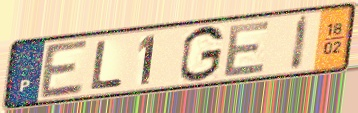1: (137, 33, 156, 86)
E: (38, 37, 91, 102), (221, 18, 274, 79)
G: (178, 24, 226, 84)
I: (288, 13, 312, 73)
L: (89, 38, 127, 92)
